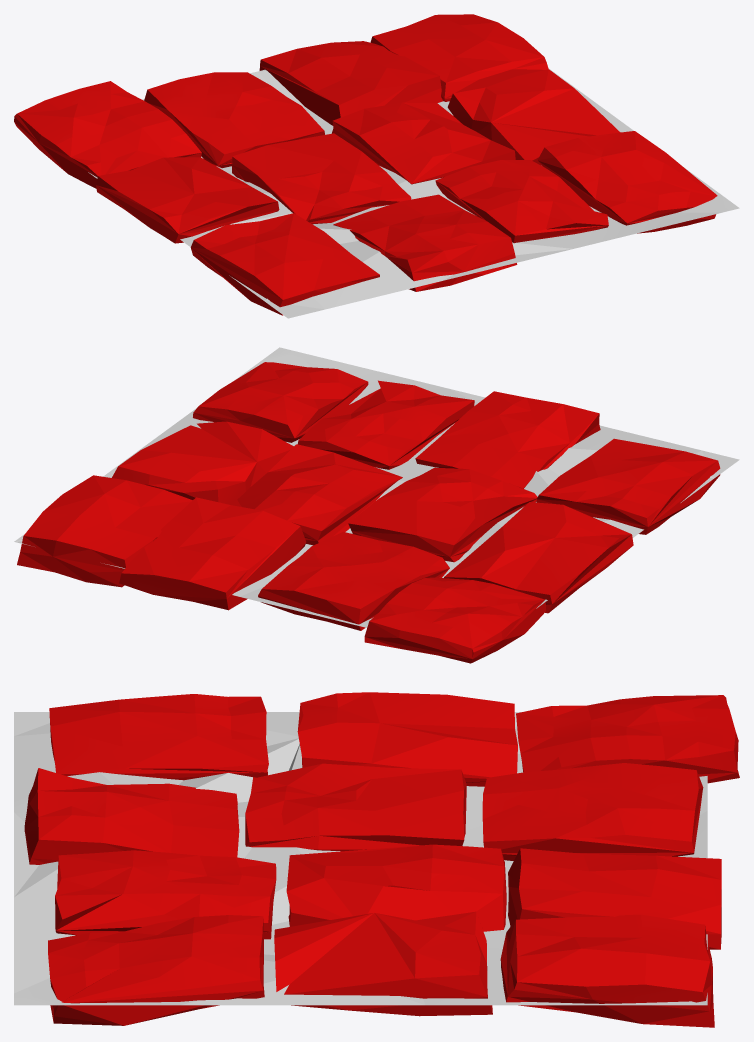
The model's file is Cobblestone.fbx.
3 views of the same model, one above another, from view 1: azimuth 30°, elevation 25°; view 2: azimuth 150°, elevation 25°; view 3: azimuth 270°, elevation 25° (orthographic). The views are drawn at different scales.
Visible parts, largest first — view 1: Plane.002; view 2: Plane.002; view 3: Plane.002.
Boxes of the visible parts, x1,y1,x2,y2 form: Plane.002: [14, 14, 739, 318]; Plane.002: [14, 347, 739, 663]; Plane.002: [14, 692, 739, 1027].
Size of the model in its own units: 204 by 18.15 by 209.
